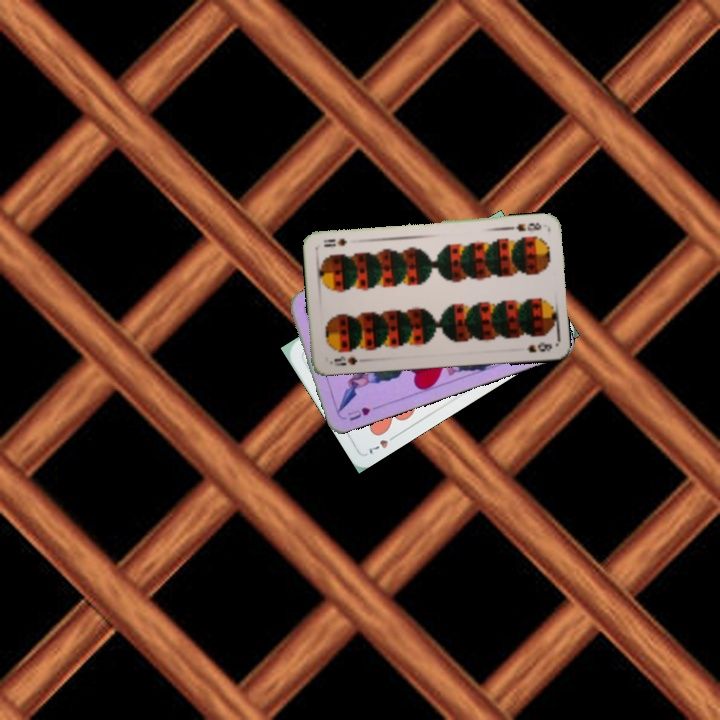H7: (365, 430, 400, 457)
HU: (344, 402, 381, 423)
S8: (512, 218, 544, 235), (330, 352, 360, 368)
